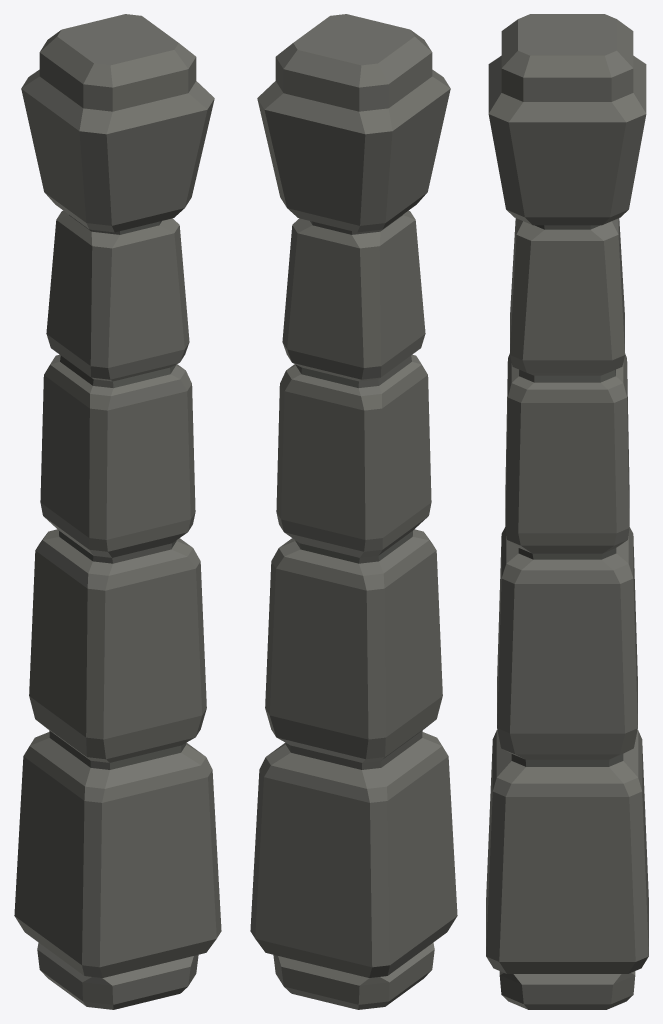
The model's file is pillar.gltf.
3 renders of one model, left to right at view 1: azimuth 30°, elevation 25°; view 2: azimuth 150°, elevation 25°; view 3: azimuth 270°, elevation 25°, orthographic.
Visible parts, largest first — view 1: Pillar; view 2: Pillar; view 3: Pillar.
Boxes of the visible parts, x1,y1,x2,y2 form: Pillar: (14, 14, 221, 1009); Pillar: (250, 14, 457, 1009); Pillar: (486, 14, 648, 1009).
Bounding box in the file's own units: 0.8101 × 5.22 × 0.8101.
1 material, 1 textured.
